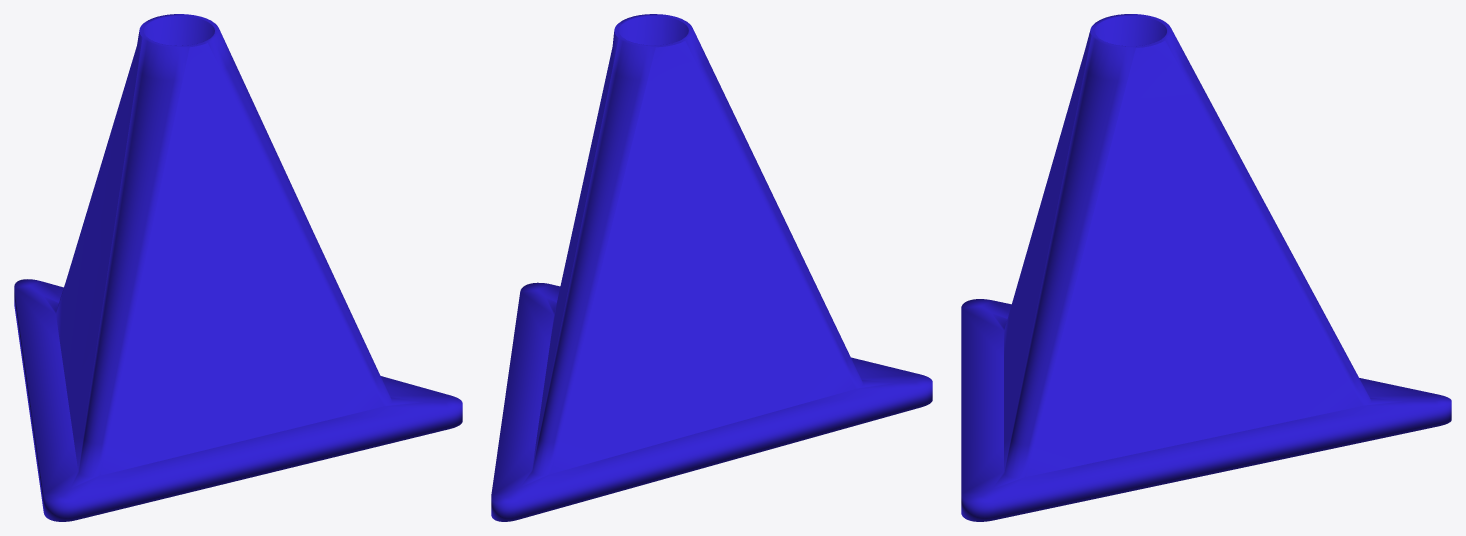
The model's file is Halo_cone_01.fbx.
3 renders of one model, left to right at view 1: azimuth 30°, elevation 25°; view 2: azimuth 150°, elevation 25°; view 3: azimuth 270°, elevation 25°, orthographic. The views are drawn at different scales.
Parts seen in each view (by area): view 1: Triangle; view 2: Triangle; view 3: Triangle.
Boxes of the visible parts, x1,y1,x2,y2 form: Triangle: (14, 14, 462, 521); Triangle: (491, 14, 932, 521); Triangle: (961, 14, 1451, 521).
Bounding box in the file's own units: 47.54 × 42.1 × 48.17.
